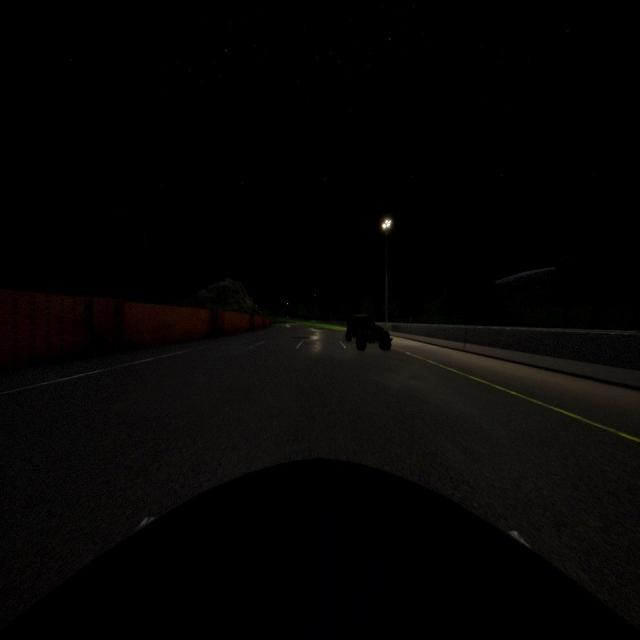Vehicle: (0, 461, 640, 640), (345, 315, 391, 350)
